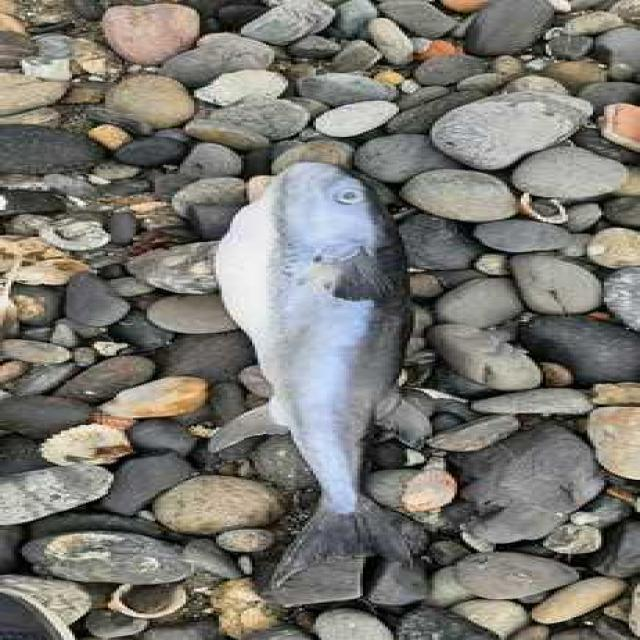Balik: (211, 163, 423, 583)
